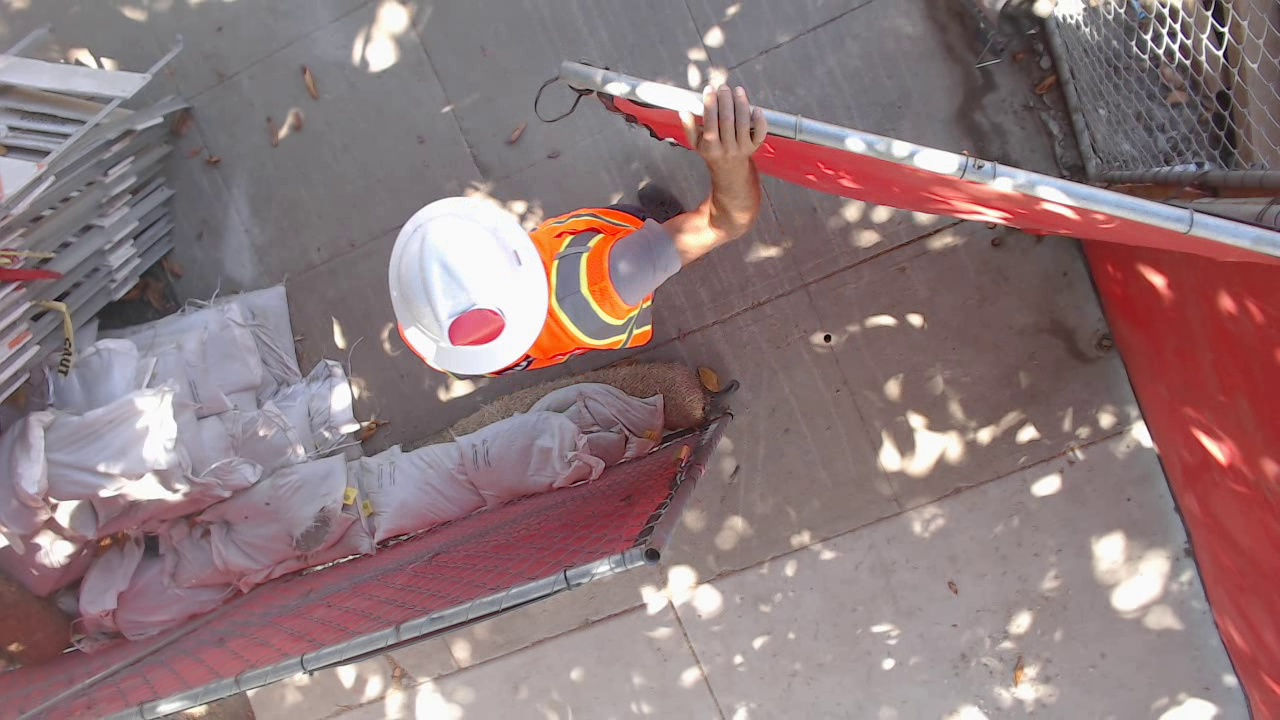blue: (783, 459, 831, 495)
hardhat: (689, 330, 862, 502)
person: (592, 237, 914, 504)
safetyvest: (662, 276, 912, 478)
